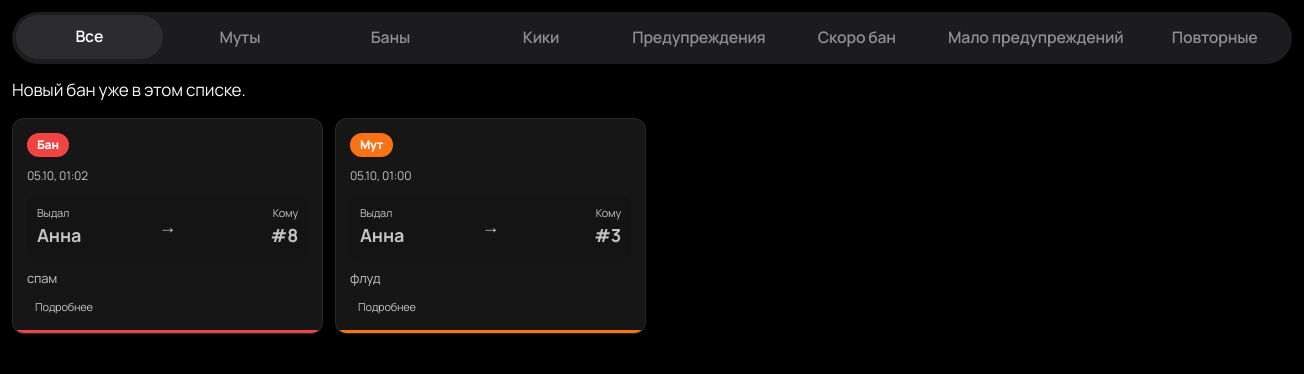
Test: GroupArchive › shows a new punishment in the open list and names one the filter hides
Expected: the message reads "Новый бан уже в этом списке.", [12,78,246,101]
Click the button "Муты".
click(240, 38)  # box [167,16,313,60]
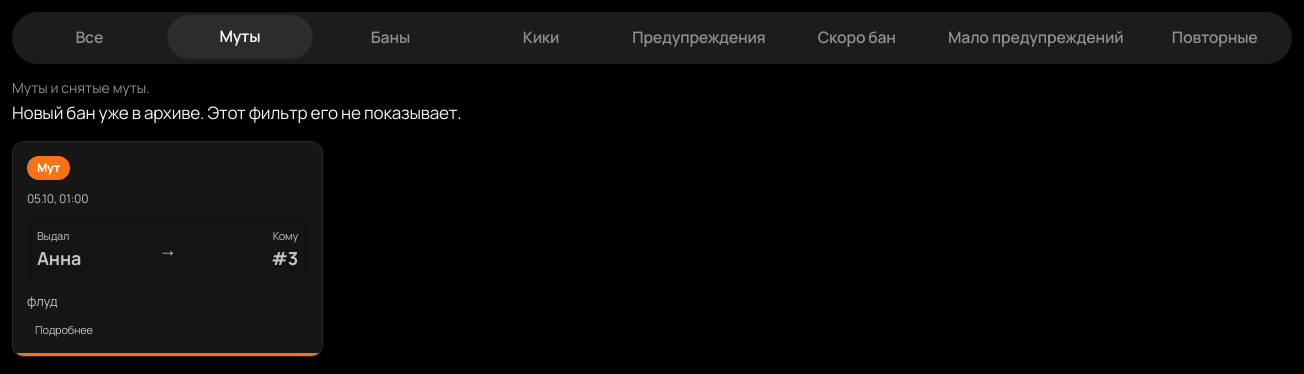
Result: the message reads "Новый бан уже в архиве. Этот фильтр его не показывает." at [12,101,461,124]
